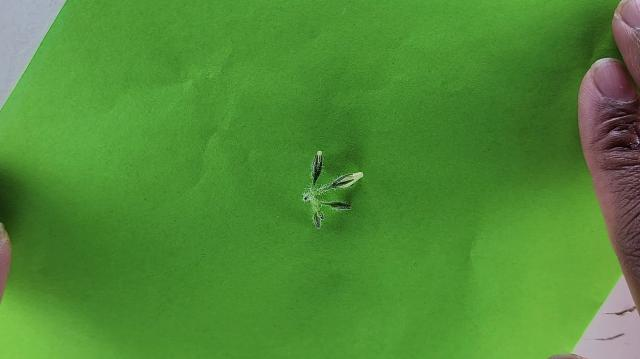Flower Bud: (328, 168, 372, 191), (311, 151, 323, 186), (324, 201, 353, 211)
